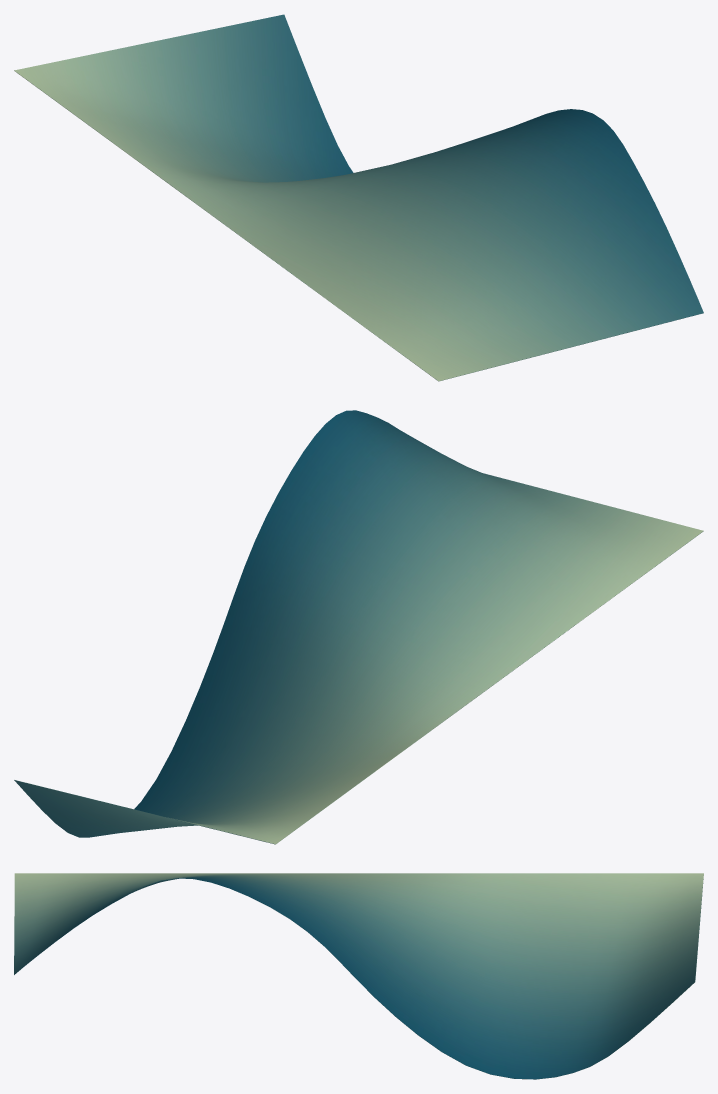
The model's file is y=ksenx menor recorrido.fbx.
3 renders of one model, top to bottom at view 1: azimuth 30°, elevation 25°; view 2: azimuth 150°, elevation 25°; view 3: azimuth 270°, elevation 25°, orthographic. The views are drawn at different scales.
Parts seen in each view (by area): view 1: y_ksenx_kmenor1_recorrido:Mesh; view 2: y_ksenx_kmenor1_recorrido:Mesh; view 3: y_ksenx_kmenor1_recorrido:Mesh.
Part boxes in pixels (<box>): y_ksenx_kmenor1_recorrido:Mesh: <box>14,14,703,381</box>; y_ksenx_kmenor1_recorrido:Mesh: <box>14,410,703,844</box>; y_ksenx_kmenor1_recorrido:Mesh: <box>14,873,703,1079</box>.
Bounding box in the file's own units: 7.47 × 6.68 × 20.76.
